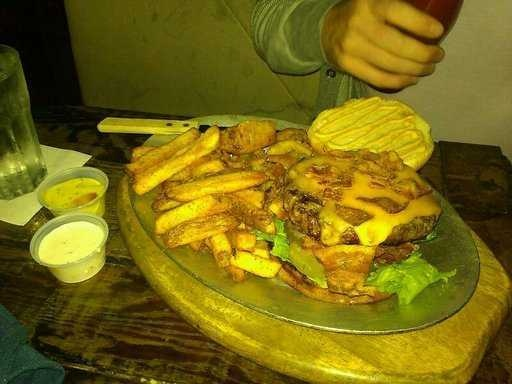hamburger: (150, 95, 465, 317)
